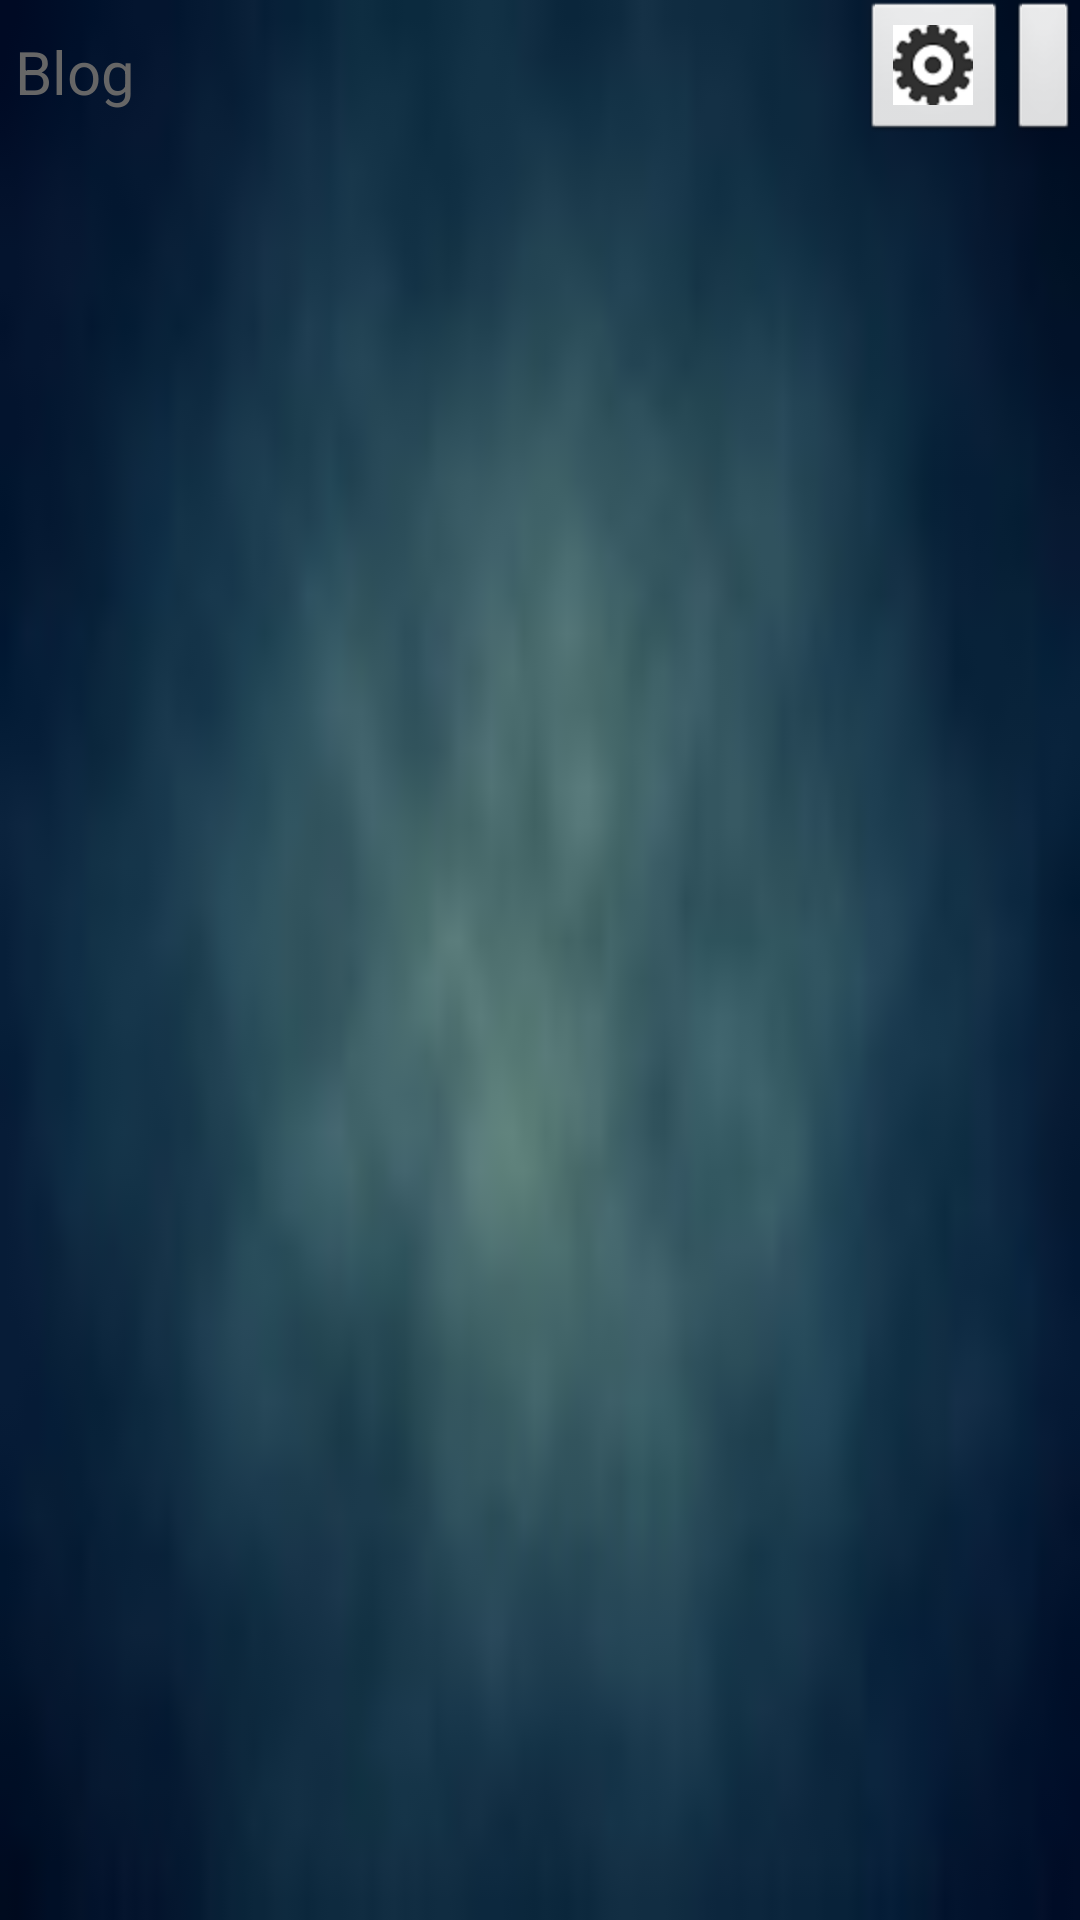

Icons on this 1080px×1920px Android screen, each with its box as (x1, y1, x2, y2):
set: (871, 3, 996, 128)
